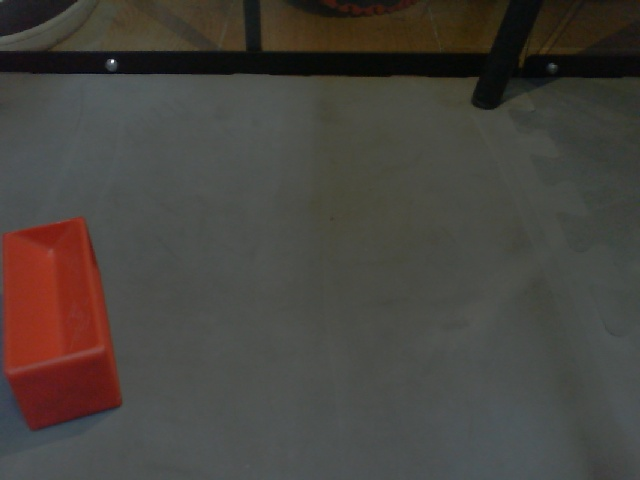RedSample: (1, 212, 123, 434)
